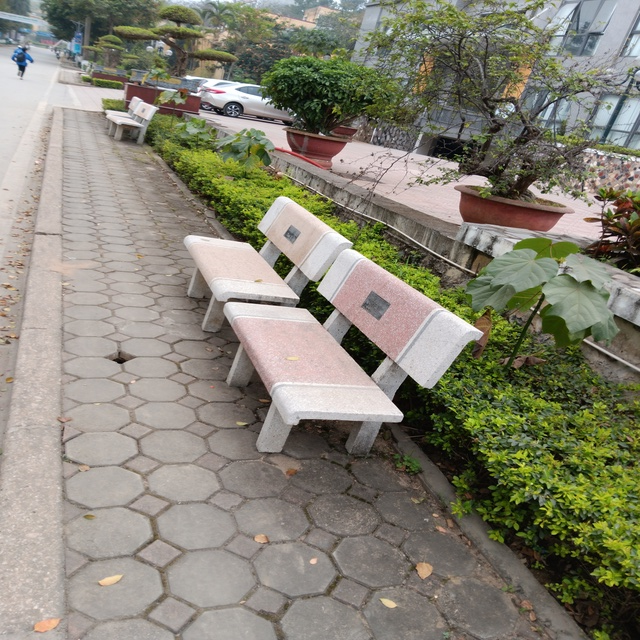gheda: (231, 245, 482, 471), (180, 189, 351, 336)
